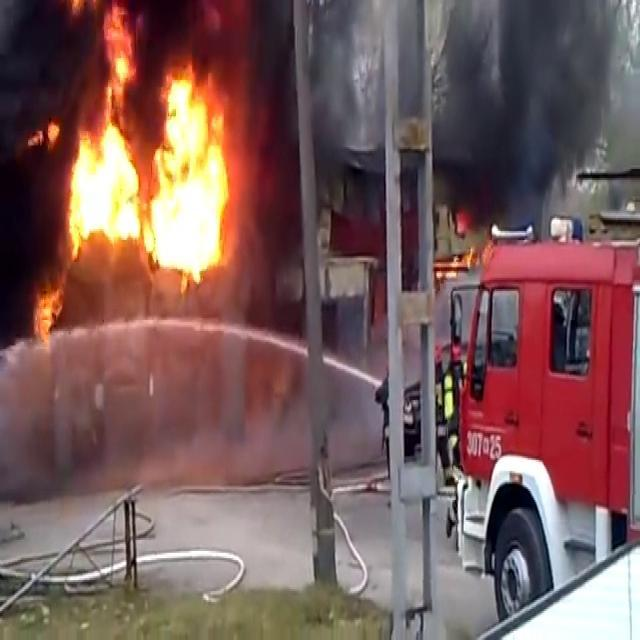Fire: (32, 0, 234, 356)
Smoke: (310, 0, 640, 251)
